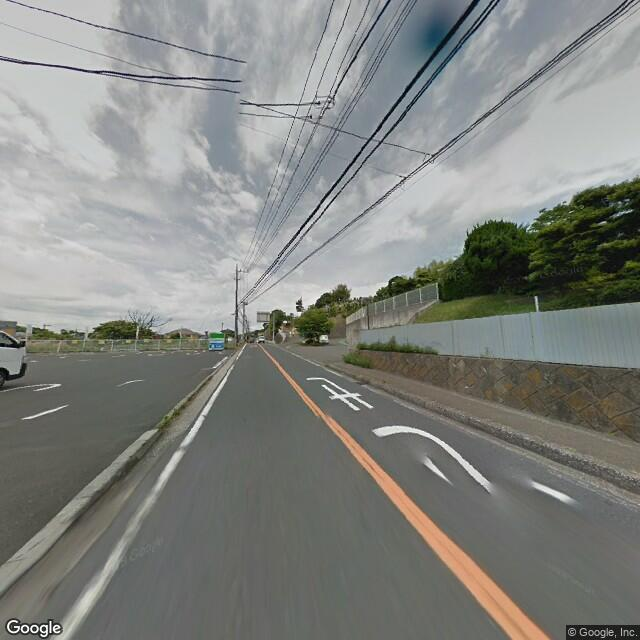family_mart: (207, 329, 226, 352)
